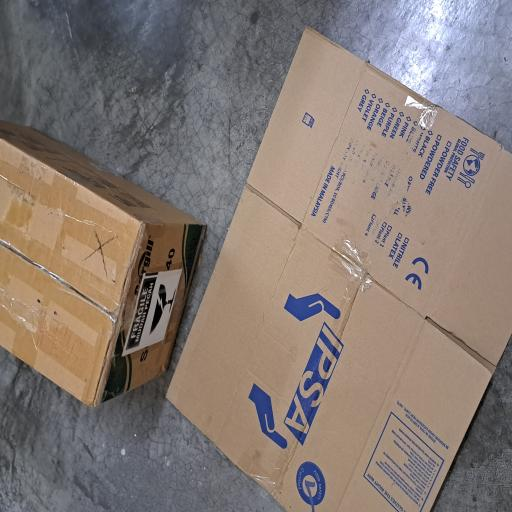cardboard: (0, 218, 364, 512), (76, 0, 292, 278)
